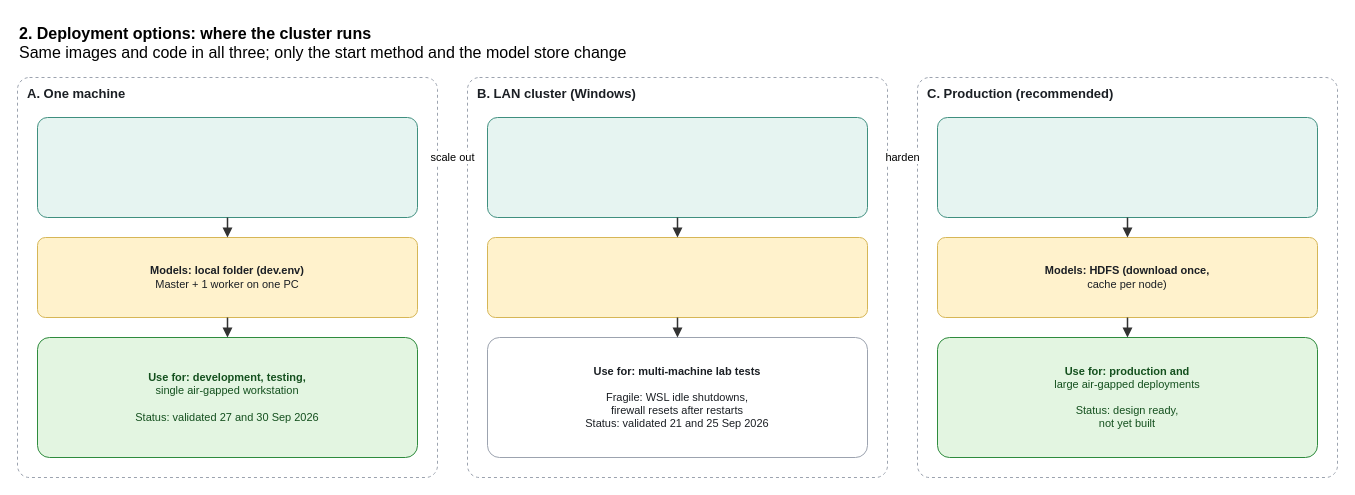
Some shapes in this 1355 by 495 pixel diagram are drawn without their labels. Here are the shapes that lost their labels. From the top down, the centre of each, then its label:
(227,167): Docker Desktop one compose file (docker-compose.airgap_sim.yml, profile cluster)
(677,167): Docker CE inside WSL2 Ubuntu host networking, one container per machine
(1127,167): Linux servers or Kubernetes native host networking, no WSL layer
(677,277): Models: same folder on every node or HDFS Master PC + worker PCs
